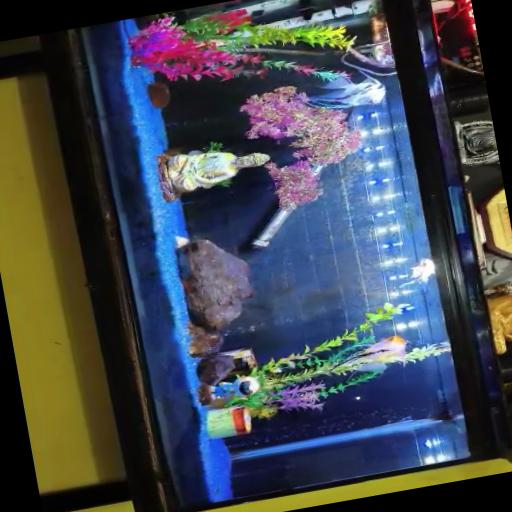Fish: (307, 73, 385, 108), (344, 335, 405, 371), (399, 258, 433, 285), (298, 0, 314, 19)
